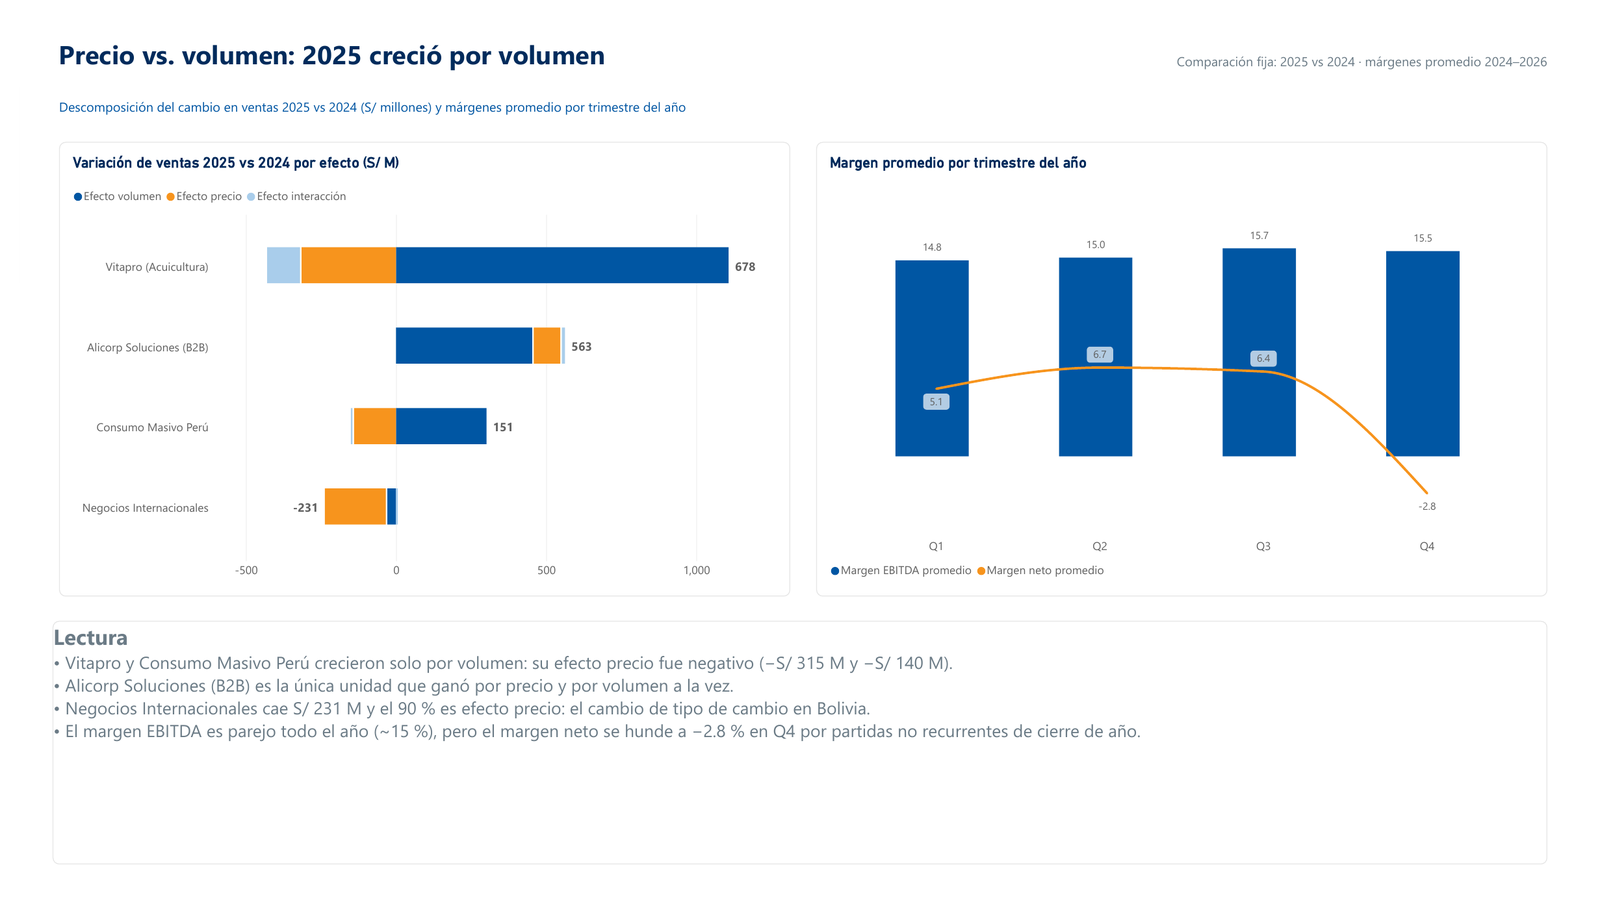

The dashboard page shown, as its layout file describes it:
{"tool":"powerbi","page":{"name":"Precio vs Volumen","canvas":[1920,1080],"ordinal":5},"visuals":[{"type":"textbox","box":[48,20,1500,70],"z":1000},{"type":"textbox","box":[48,95,1500,30],"z":2000},{"type":"barChart","title":"Variación de ventas 2025 vs 2024 por efecto (S/ M)","fields":{"Category":["descomposicion_precio_vol.unidad"],"Y":["_Medidas.Efecto volumen","_Medidas.Efecto precio","_Medidas.Efecto interacción"]},"box":[48,150,900,560],"z":2001},{"type":"lineClusteredColumnComboChart","title":"Margen promedio por trimestre del año","fields":{"Category":["estacionalidad_trimestral.etiqueta"],"Y":["Avg(estacionalidad_trimestral.margen_ebitda_prom)"],"Y2":["Avg(estacionalidad_trimestral.margen_neta_prom)"]},"box":[980,150,900,560],"z":2002},{"type":"textbox","box":[40,740,1840,300],"z":2003},{"type":"textbox","box":[1180,40,700,50],"z":2004}]}

Visuals, with their boxes in screenshot pixels (x1, y1, x2, y2), scaled from the page's 1920x1080 canvas onto the 1600x917 screenshot:
textbox: crop(40, 17, 1290, 76)
textbox: crop(40, 81, 1290, 106)
"Variación de ventas 2025 vs 2024 por efecto (S/ M)" barChart: crop(40, 127, 790, 603)
"Margen promedio por trimestre del año" lineClusteredColumnComboChart: crop(817, 127, 1567, 603)
textbox: crop(33, 628, 1567, 883)
textbox: crop(983, 34, 1567, 76)
